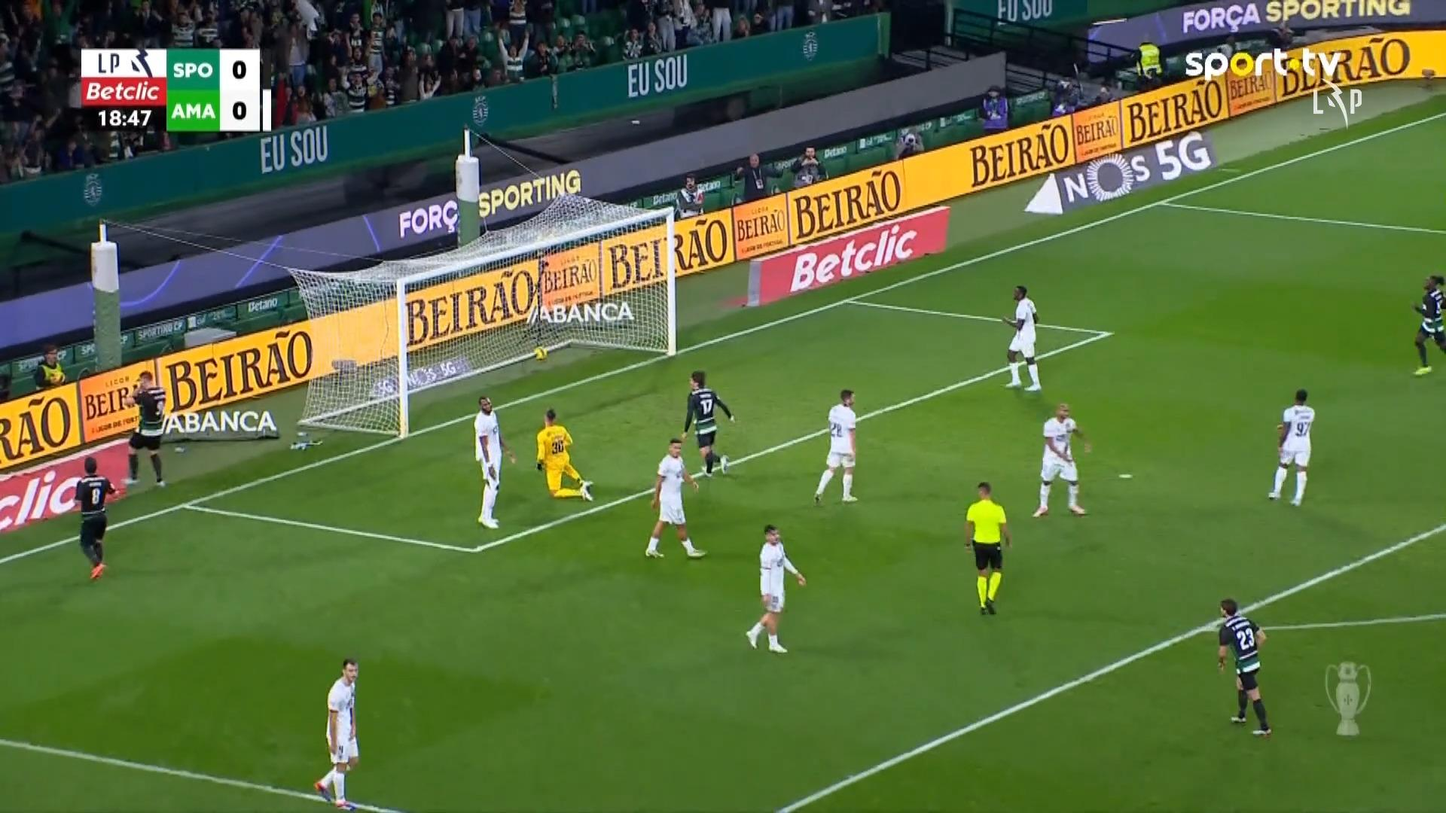ball: (534, 346, 546, 360)
goalkeeper: (534, 407, 593, 501)
player: (744, 523, 806, 653), (1216, 598, 1271, 736), (644, 438, 706, 559), (313, 657, 360, 808), (71, 455, 126, 580), (1032, 401, 1091, 517), (680, 370, 735, 477), (472, 394, 515, 528), (1267, 388, 1314, 506), (120, 369, 167, 487), (812, 388, 859, 505), (1000, 285, 1042, 391), (1411, 274, 1444, 375)
referee: (962, 480, 1011, 615)
